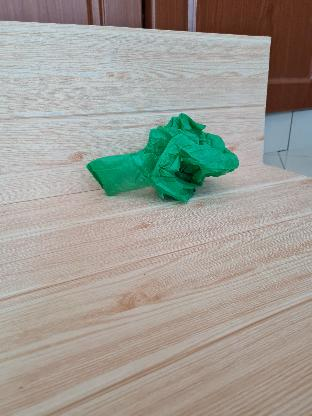Plastic Bag: (81, 116, 238, 208)
